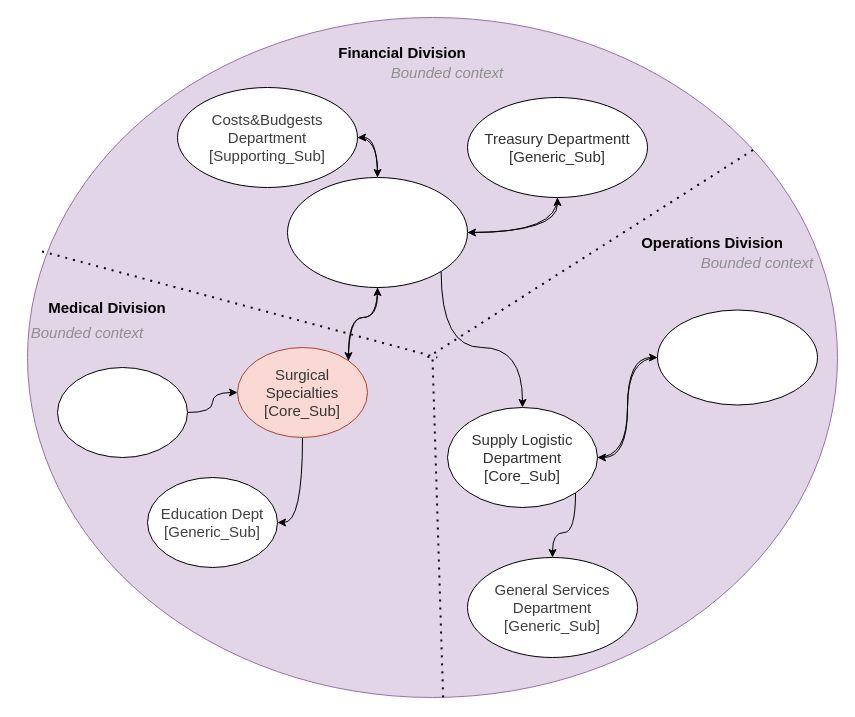
Image size: 855x717. Some labels were removed from this diagram. Here are the shapes that lost their labels. From the top down, the centre of each, then its label:
the point at 377,232: Accounting Department [Core_Sub ]
the point at 737,357: Security Department [Supporting_Sub]
the point at 122,412: Emergency Room [Supporting_Sub]
